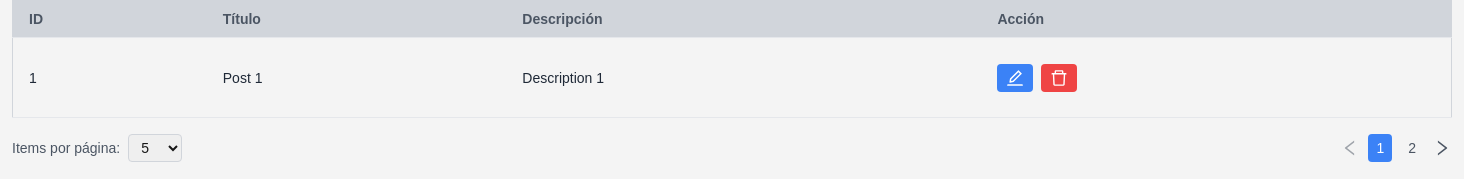
Test case: handles pagination buttons correctly
Expected: the text "Post 1" is shown, x1=207 y1=38 x2=506 y2=118
Click the button named "Next Page" at (1442, 148), box x1=1432 y1=138 x2=1452 y2=158
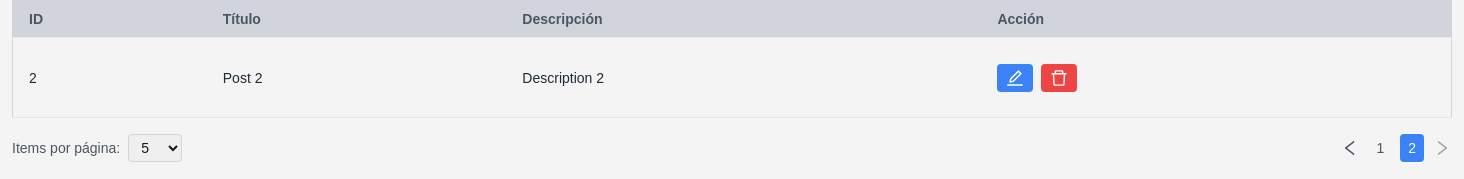
Expected: the text "Post 2" is shown, x1=207 y1=38 x2=506 y2=118
Click the button named "Previous Page" at (1350, 148), box x1=1340 y1=138 x2=1360 y2=158
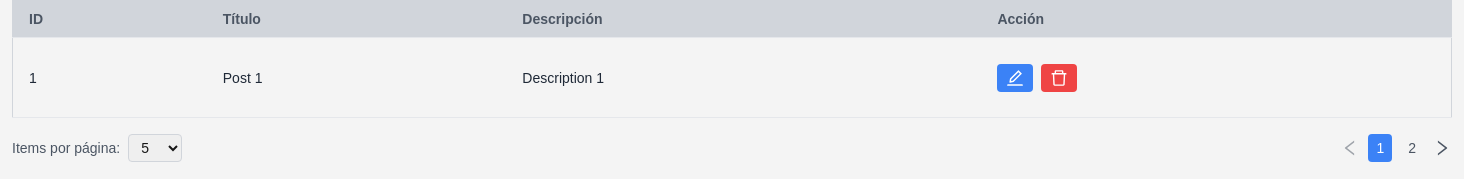
Expected: the text "Post 1" is shown, x1=207 y1=38 x2=506 y2=118
